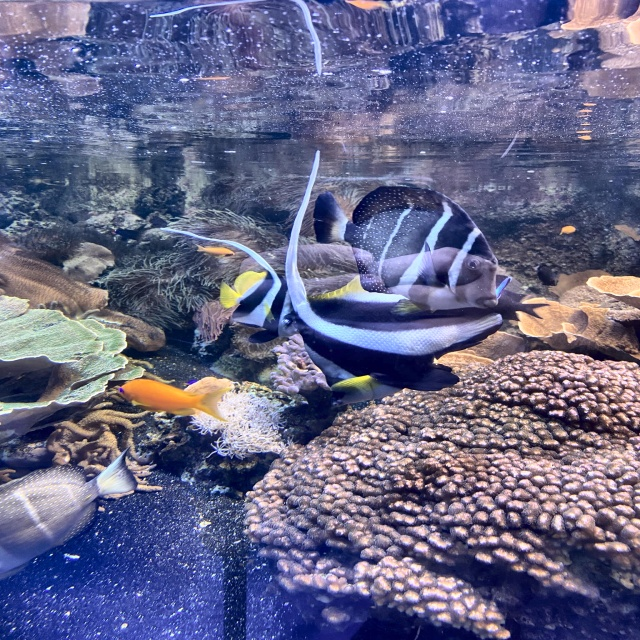fish: (292, 272, 501, 409), (312, 185, 499, 314), (0, 446, 140, 580), (218, 266, 306, 343), (117, 379, 221, 416), (197, 244, 234, 258)
